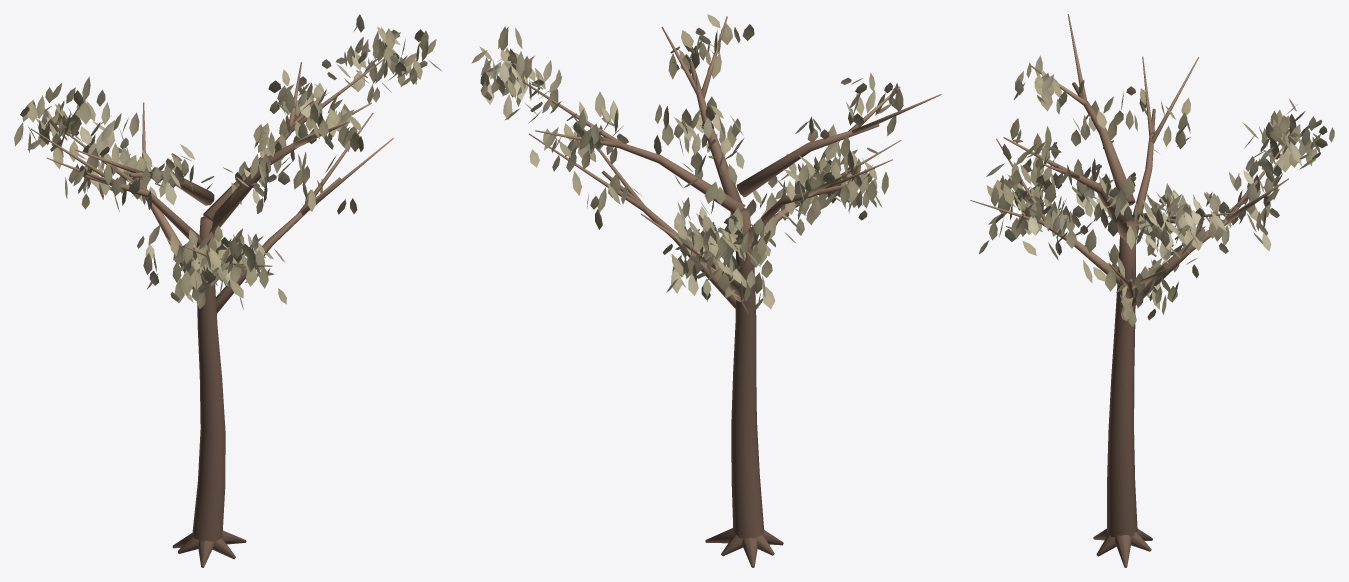
File: tree_3d_03_golden_beige.glb
3 views of the same model, side by side, from view 1: azimuth 30°, elevation 25°; view 2: azimuth 150°, elevation 25°; view 3: azimuth 270°, elevation 25° (orthographic). The views are drawn at different scales.
Parts seen in each view (by area): view 1: tree_3d_03_golden_beige_foliage, tree_3d_03_golden_beige_wood; view 2: tree_3d_03_golden_beige_foliage, tree_3d_03_golden_beige_wood; view 3: tree_3d_03_golden_beige_foliage, tree_3d_03_golden_beige_wood.
Boxes of the visible parts, bbox=[...] form: tree_3d_03_golden_beige_foliage: bbox=[14, 14, 441, 309]; tree_3d_03_golden_beige_wood: bbox=[31, 58, 393, 567]; tree_3d_03_golden_beige_foliage: bbox=[471, 14, 903, 314]; tree_3d_03_golden_beige_wood: bbox=[517, 16, 941, 567]; tree_3d_03_golden_beige_foliage: bbox=[979, 55, 1334, 326]; tree_3d_03_golden_beige_wood: bbox=[970, 14, 1288, 567].
Bounding box in the file's own units: 11.07 × 12.11 × 8.72.
